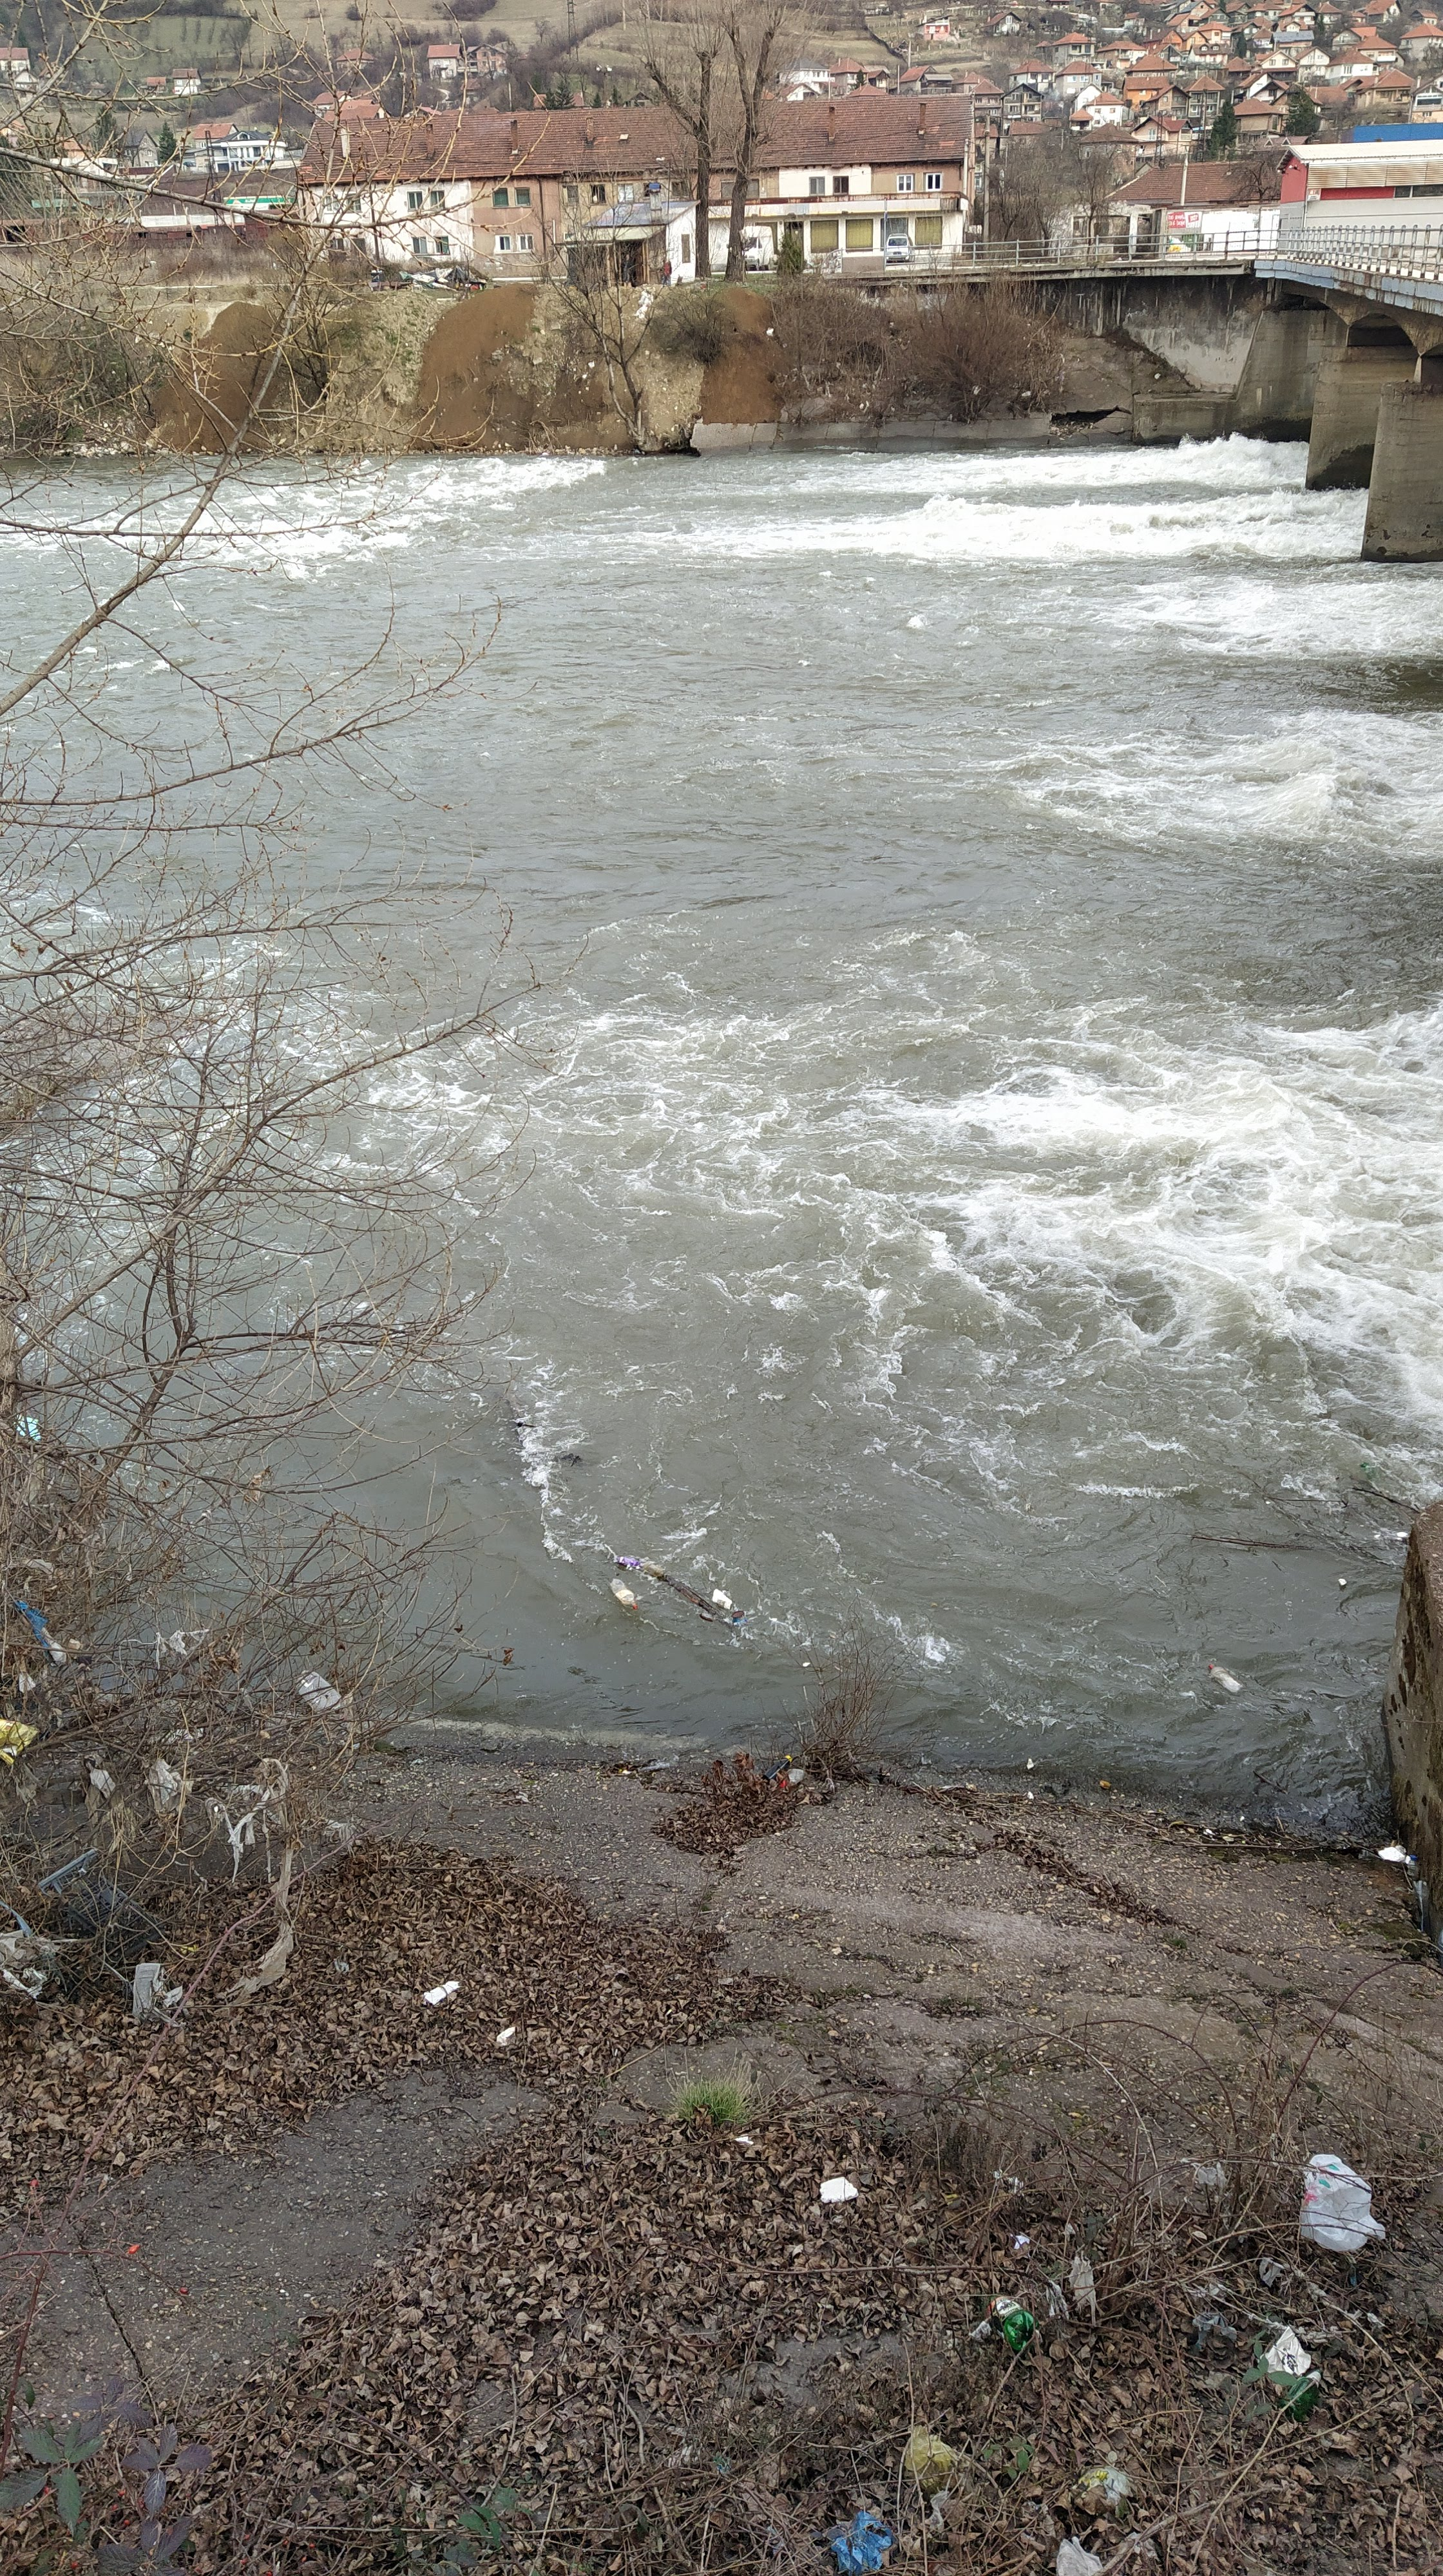Plastic Bottle: (1208, 1663, 1243, 1693), (611, 1578, 637, 1610), (614, 1555, 639, 1568), (1362, 1461, 1372, 1470)
